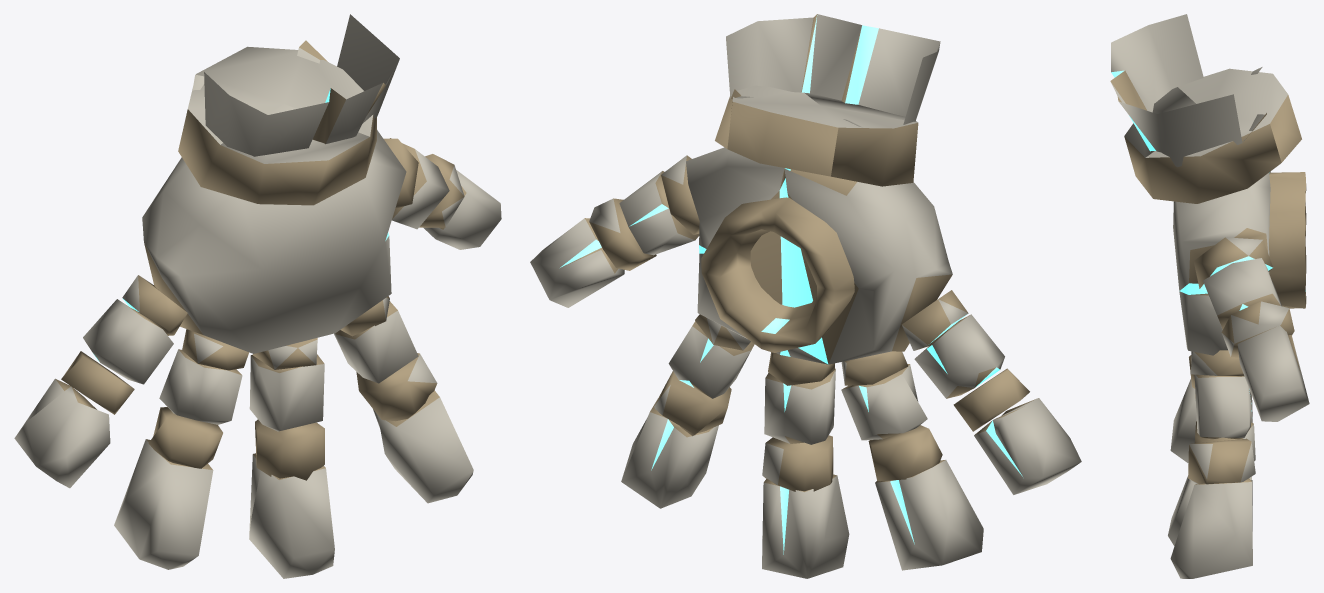
The model's file is BossPalm.glb.
The picture shows the model from 3 angles, left to right: view 1: azimuth 30°, elevation 25°; view 2: azimuth 150°, elevation 25°; view 3: azimuth 270°, elevation 25°; orthographic projection. The views are drawn at different scales.
Visible parts, largest first — view 1: BossPalm_Bend.004, PART_BossPalm.004; view 2: BossPalm_Bend.004, PART_BossPalm.004; view 3: BossPalm_Bend.004, PART_BossPalm.004.
Boxes of the visible parts, bbox=[...] form: BossPalm_Bend.004: bbox=[14, 104, 501, 578]; PART_BossPalm.004: bbox=[188, 14, 399, 156]; BossPalm_Bend.004: bbox=[530, 15, 1081, 578]; PART_BossPalm.004: bbox=[726, 14, 940, 176]; BossPalm_Bend.004: bbox=[1124, 87, 1309, 578]; PART_BossPalm.004: bbox=[1110, 14, 1301, 167].
Bounding box in the file's own units: 1.27 × 1.28 × 0.4683.
